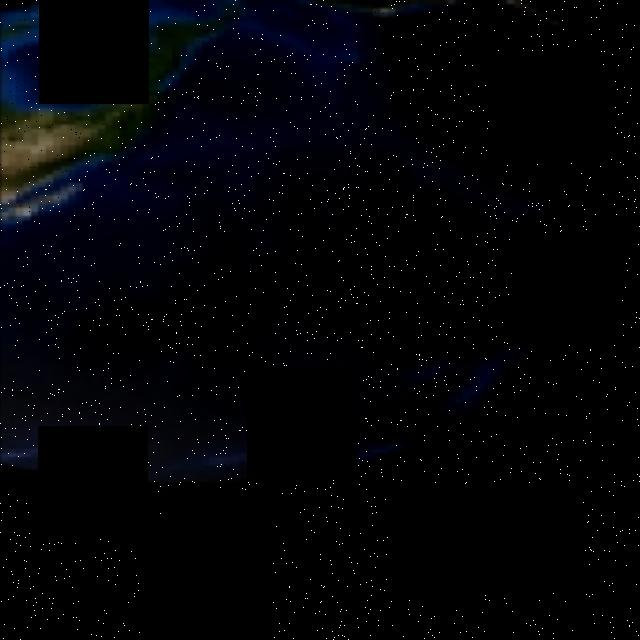Earth: (0, 1, 640, 494)
